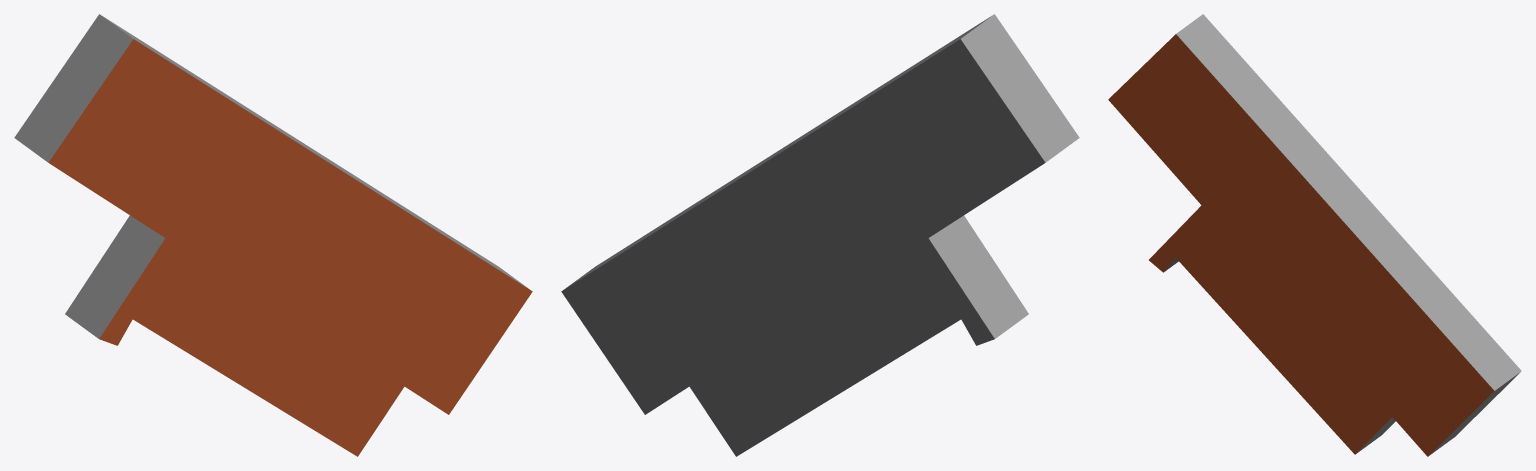
The model's file is construction_5037_assumed_A_Casa_h6m.obj.
3 views of the same model, side by side, from view 1: azimuth 30°, elevation 25°; view 2: azimuth 150°, elevation 25°; view 3: azimuth 330°, elevation 25° (orthographic). The views are drawn at different scales.
Visible parts, largest first — view 1: construction_5037_assumed_A_Casa; view 2: construction_5037_assumed_A_Casa; view 3: construction_5037_assumed_A_Casa.
Boxes of the visible parts, x1,y1,x2,y2 form: construction_5037_assumed_A_Casa: [14, 14, 532, 456]; construction_5037_assumed_A_Casa: [561, 14, 1079, 456]; construction_5037_assumed_A_Casa: [1108, 14, 1521, 456].
Bounding box in the file's own units: 49.13 × 45.81 × 6.
